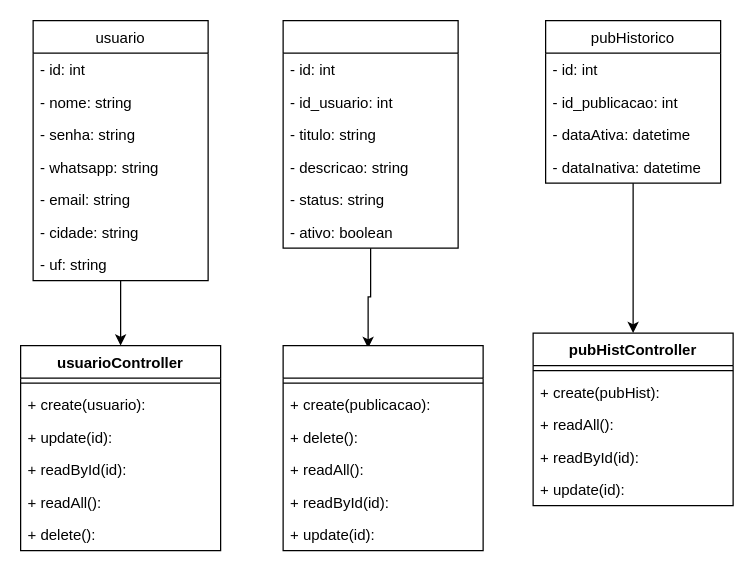
The diagram is 754 pixels wide and 571 high, and some of its shapes have lost their labels. Each missing label, with the box of its shape:
publicacao: (282, 19, 458, 248)
publicacaoController: (282, 344, 483, 551)
